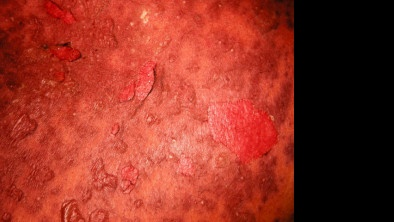SJS-TEN: (0, 0, 295, 222)
